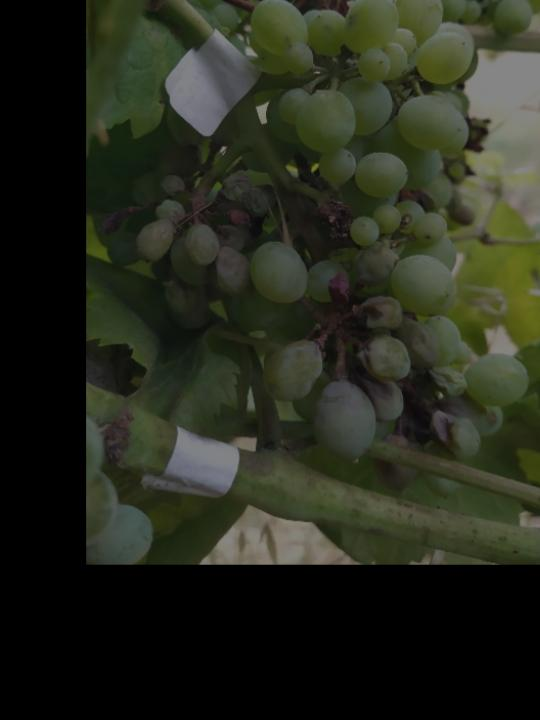grape: (133, 0, 534, 467)
